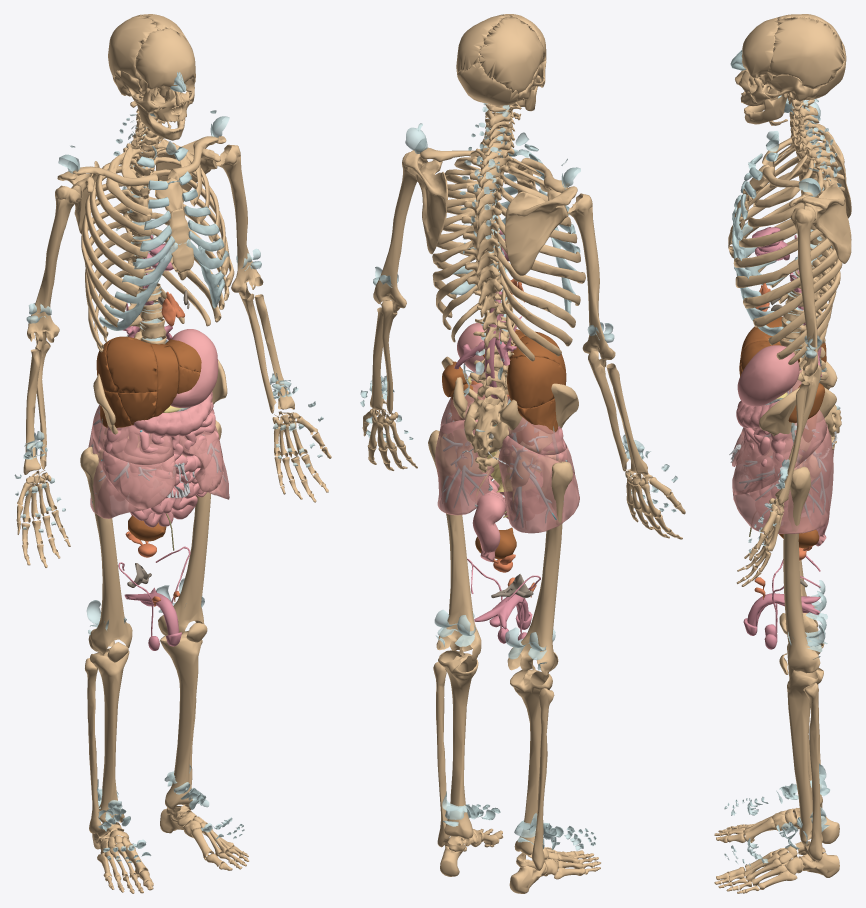
File: splanchnology.glb
3 renders of one model, left to right at view 1: azimuth 30°, elevation 25°; view 2: azimuth 150°, elevation 25°; view 3: azimuth 270°, elevation 25°, orthographic. The views are drawn at different scales.
Visible parts, largest first — view 1: Object_8, Object_41, Object_53, Object_62, Object_70, Object_66, Object_51; view 2: Object_8, Object_62, Object_41, Object_70, Object_66, Object_53, Object_2; view 3: Object_8, Object_41, Object_62, Object_53, Object_66, Object_70, Object_2, Object_51.
Part boxes in pixels (x1,y1,x2,y2): Object_8: (16,14,331,893); Object_41: (14,72,323,862); Object_53: (103,329,218,527); Object_62: (88,405,229,518); Object_70: (96,336,201,541); Object_66: (118,235,190,650); Object_51: (125,291,184,606); Object_8: (362,14,685,893); Object_62: (435,379,579,533); Object_41: (360,103,678,850); Object_70: (442,329,566,559); Object_66: (454,230,540,643); Object_53: (451,323,567,561); Object_2: (442,413,572,527); Object_8: (714,14,851,893); Object_41: (724,50,841,866); Object_62: (731,369,834,533); Object_53: (736,345,829,546); Object_66: (743,227,821,649); Object_70: (739,316,826,548); Object_2: (739,388,826,519); Object_51: (754,283,812,599).
Bounding box in the file's own units: 21924 × 55578 × 8196.
